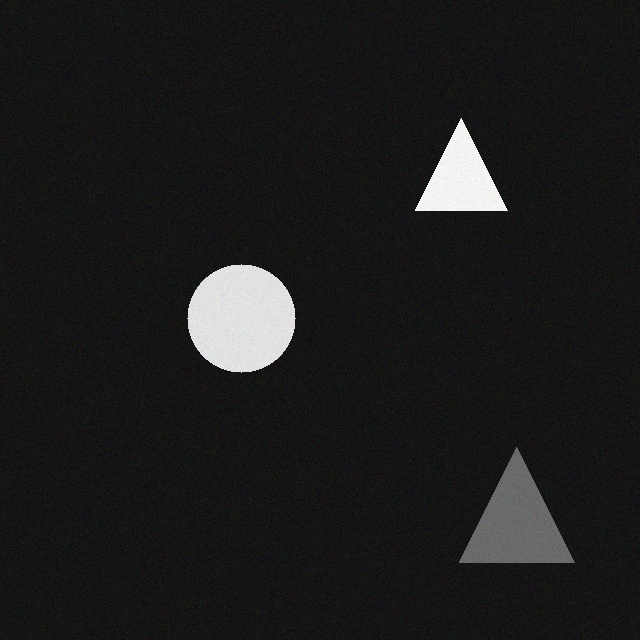circle: (197, 254, 305, 362)
triangle: (469, 437, 584, 552), (425, 108, 517, 200)
